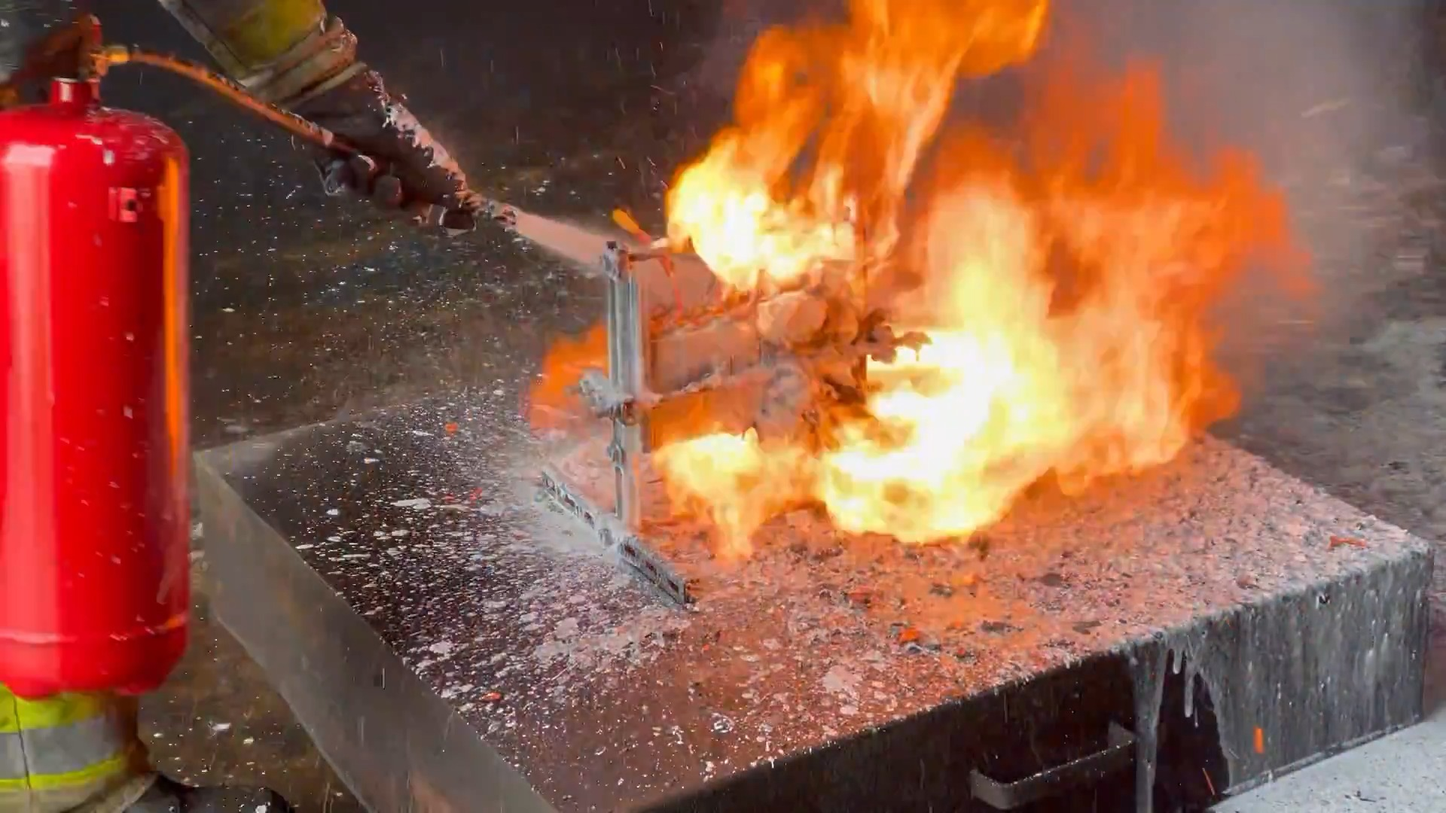fire: (526, 0, 1319, 568)
smoke: (1049, 0, 1445, 349)
